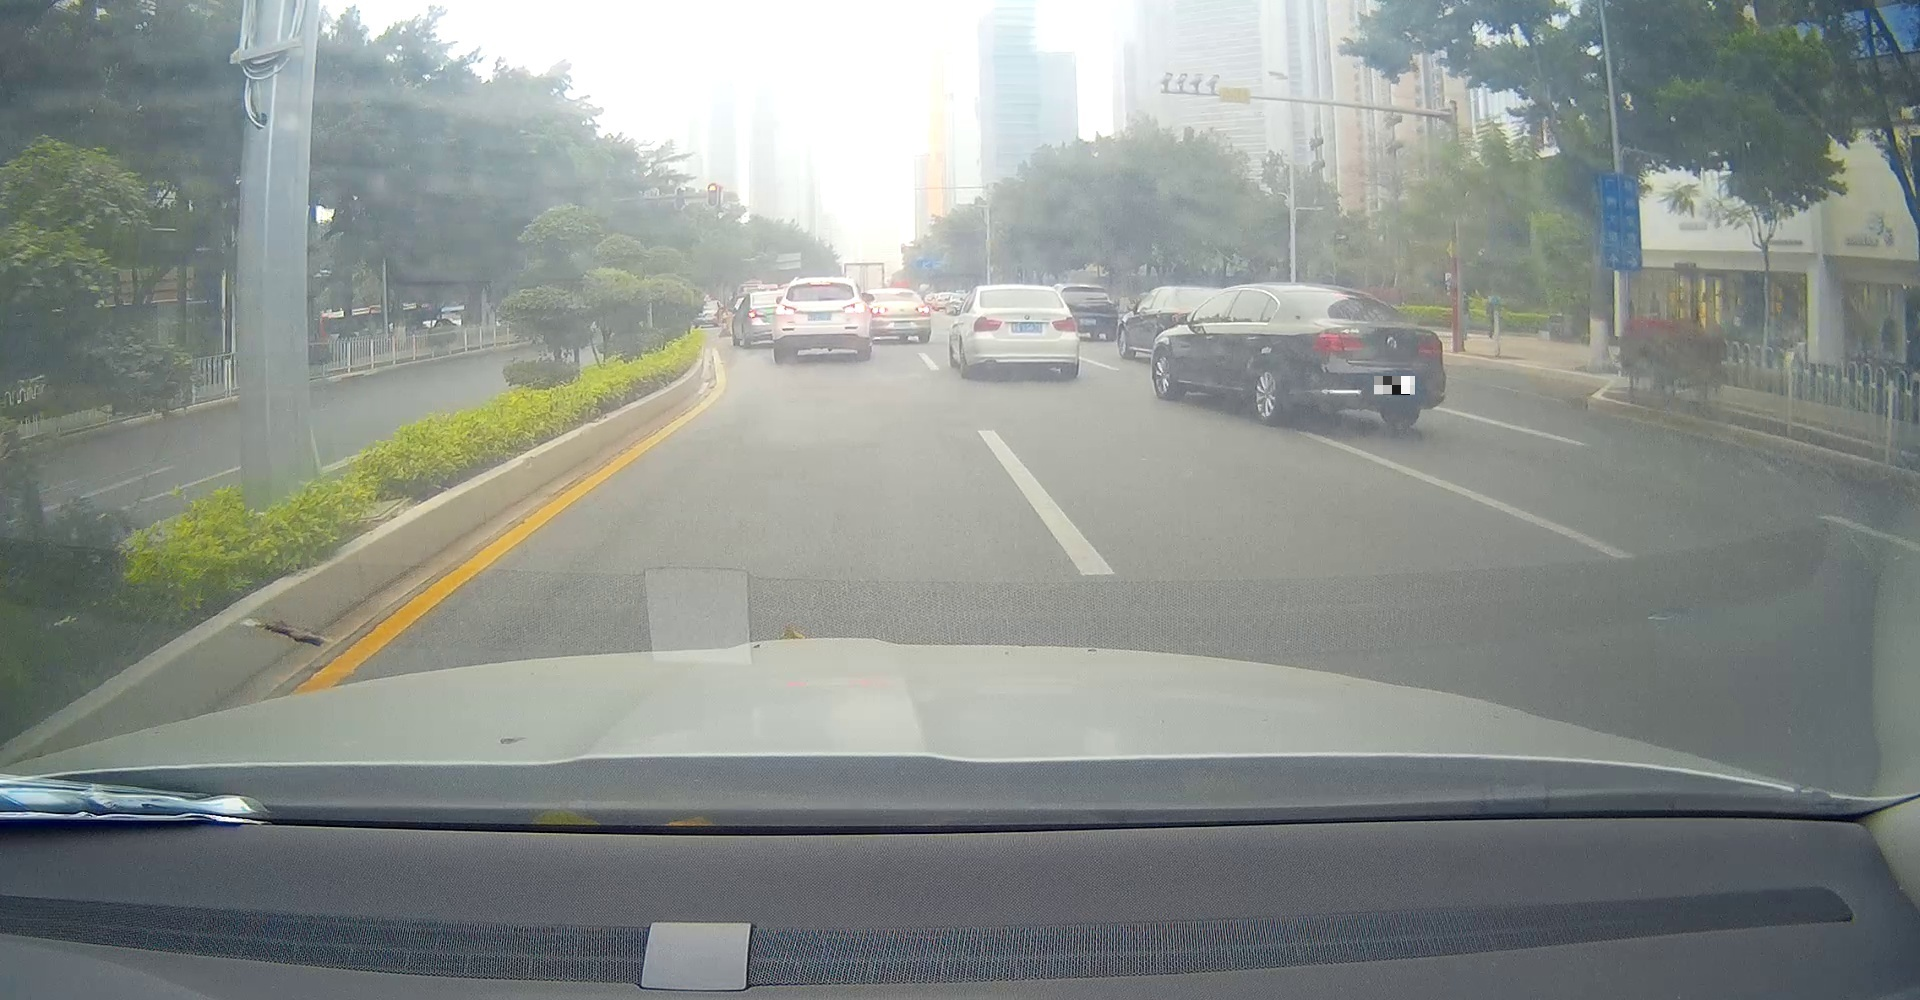L_light: (1310, 332, 1368, 353), (973, 316, 1001, 332), (775, 305, 796, 316)
R_light: (1415, 338, 1443, 357), (1051, 316, 1077, 332), (843, 301, 866, 315)
T_light: (1331, 291, 1355, 299), (809, 282, 830, 287), (1012, 288, 1027, 292)
day-brake: (771, 277, 871, 360)
day-no: (1277, 283, 1446, 426), (970, 286, 1079, 379)
plate_1: (1374, 376, 1415, 395)
